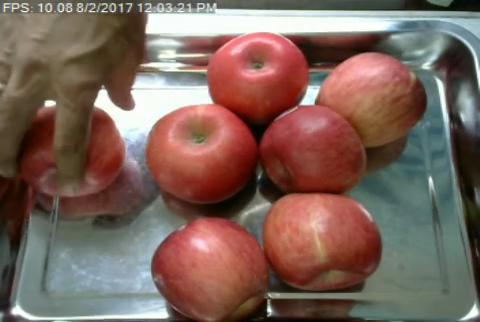apple: (151, 216, 269, 318), (265, 192, 381, 289), (146, 104, 258, 204), (321, 53, 427, 143), (259, 105, 365, 190), (24, 109, 124, 194), (208, 32, 309, 112)
